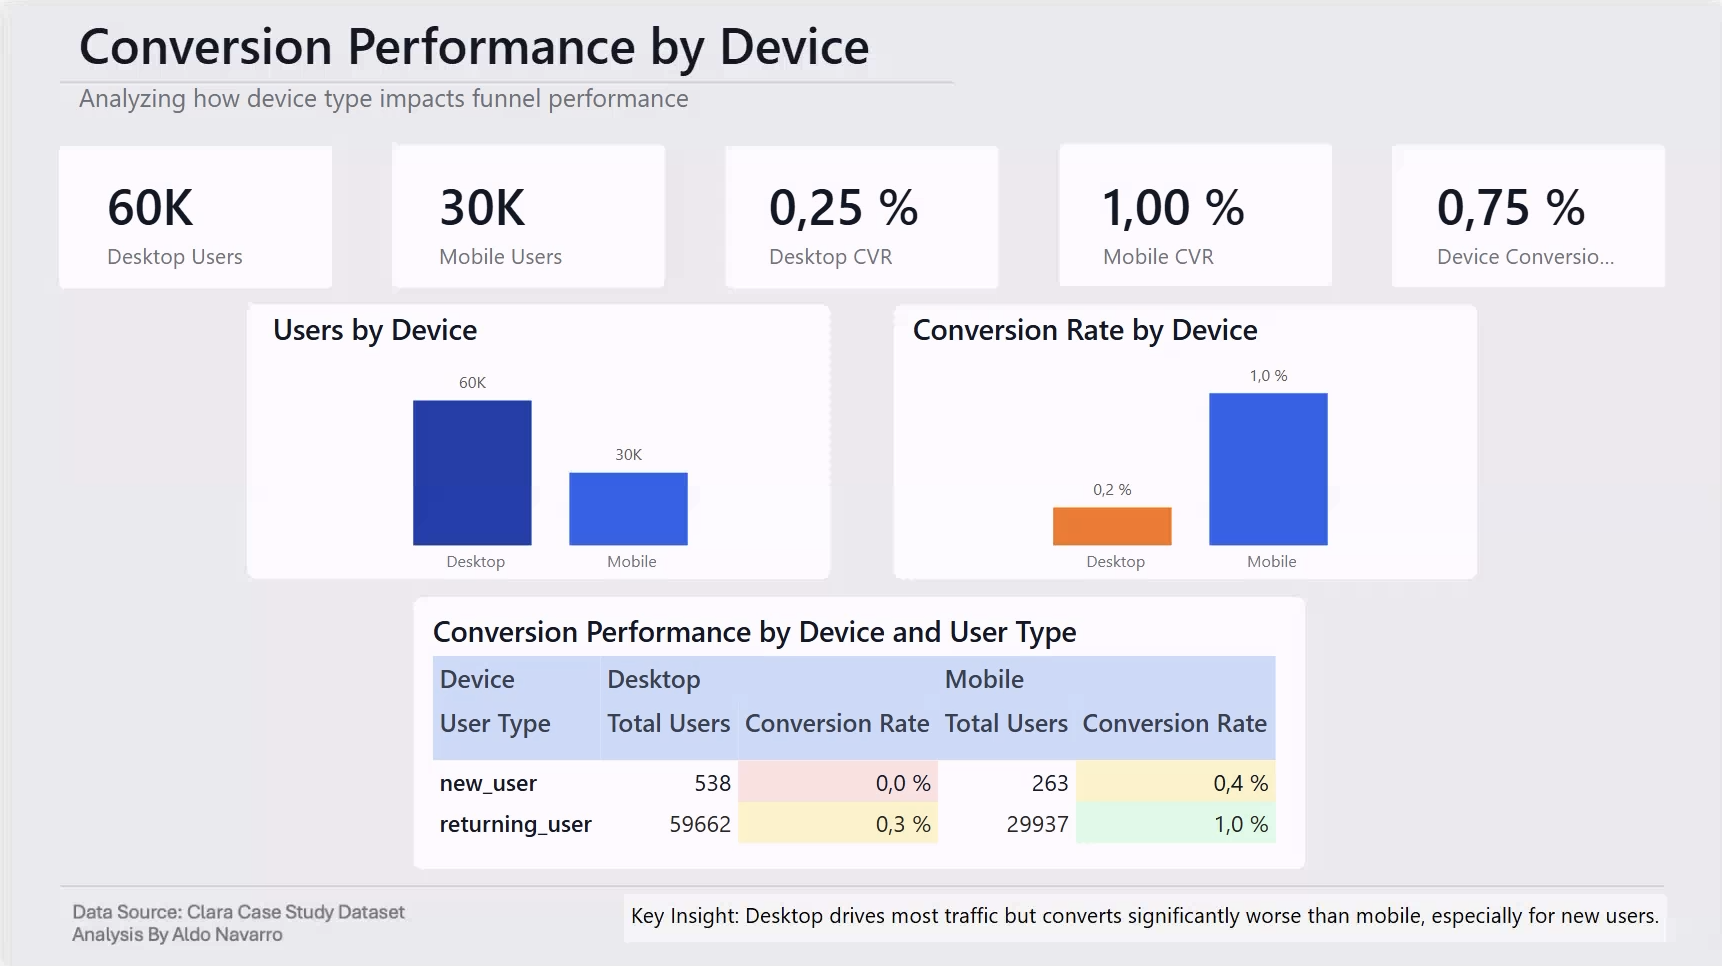

This screenshot's page, from the dashboard's own definition file:
{"tool":"powerbi","page":{"name":"Device Impact","canvas":[1280,720],"ordinal":2},"visuals":[{"type":"pivotTable","title":"Conversion Performance by Device and User Type","fields":{"Rows":["fact_funnel.user_type"],"Columns":["fact_funnel.device"],"Values":["dax_measures.Total Users","dax_measures.Overall Conversion Rate"]},"box":[315.4,453.8,648.7,192.3],"z":4000},{"type":"cardVisual","fields":{"Data":["dax_measures.Desktop Users"]},"box":[47.4,107.7,193.6,109],"z":5001},{"type":"cardVisual","fields":{"Data":["dax_measures.Mobile Users"]},"box":[294.9,107.7,193.6,109],"z":5002},{"type":"cardVisual","fields":{"Data":["dax_measures.Mobile CVR"]},"box":[791,107.7,193.6,109],"z":5003},{"type":"cardVisual","fields":{"Data":["dax_measures.Device Conversion Gap"]},"box":[1039.7,107.7,193.6,109],"z":5004},{"type":"cardVisual","fields":{"Data":["dax_measures.Desktop CVR"]},"box":[542.3,107.7,193.6,109],"z":5005},{"type":"clusteredColumnChart","title":"Users by Device","fields":{"Y":["dax_measures.Total Users"],"Category":["fact_funnel.device"]},"box":[194.9,228.2,429.5,206.4],"z":5006},{"type":"clusteredColumnChart","title":"Conversion Rate by Device","fields":{"Category":["fact_funnel.device"],"Y":["dax_measures.Overall Conversion Rate"]},"box":[673.1,228.2,429.5,206.4],"z":5007},{"type":"textbox","box":[50,0,660.3,64.1],"z":5008},{"type":"textbox","box":[50.6,52.9,541.2,43.5],"z":5009},{"type":"textbox","box":[462.8,664.1,778.2,37.2],"z":5010}]}

Visuals, with their boxes in screenshot pixels (x1, y1, x2, y2), scaled from the page's 1280x720 canvas onto the 1722x966 screenshot:
"Conversion Performance by Device and User Type" pivotTable: locate(424, 609, 1297, 867)
cardVisual - dax_measures.Desktop Users: locate(64, 144, 324, 291)
cardVisual - dax_measures.Mobile Users: locate(397, 144, 657, 291)
cardVisual - dax_measures.Mobile CVR: locate(1064, 144, 1325, 291)
cardVisual - dax_measures.Device Conversion Gap: locate(1399, 144, 1659, 291)
cardVisual - dax_measures.Desktop CVR: locate(730, 144, 990, 291)
"Users by Device" clusteredColumnChart: locate(262, 306, 840, 583)
"Conversion Rate by Device" clusteredColumnChart: locate(906, 306, 1483, 583)
textbox: locate(67, 0, 956, 86)
textbox: locate(68, 71, 796, 129)
textbox: locate(623, 891, 1670, 941)
